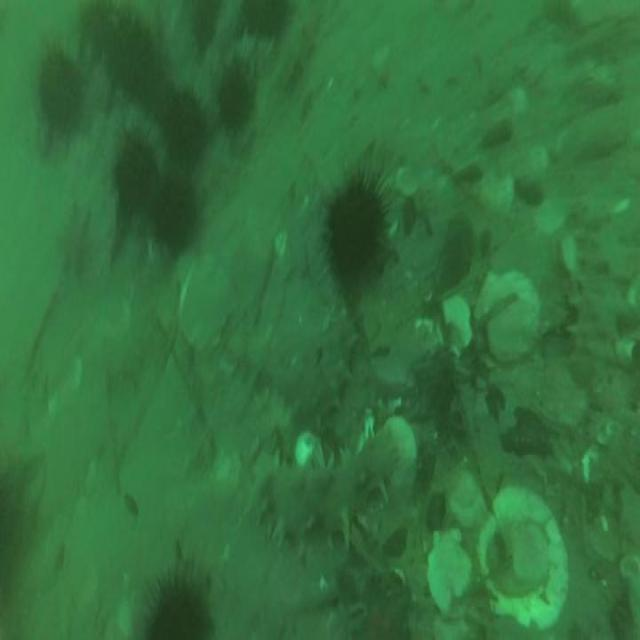echinus: (325, 177, 383, 275), (39, 50, 83, 136), (148, 583, 206, 640), (118, 128, 156, 212), (108, 26, 154, 94), (166, 92, 206, 169), (154, 184, 196, 246), (217, 58, 249, 122), (138, 58, 172, 117), (242, 1, 290, 36), (189, 0, 217, 49)
holothurian: (249, 430, 396, 547), (264, 313, 356, 431)
scallop: (478, 482, 568, 630), (481, 267, 541, 360), (173, 262, 234, 348), (425, 532, 474, 612)
